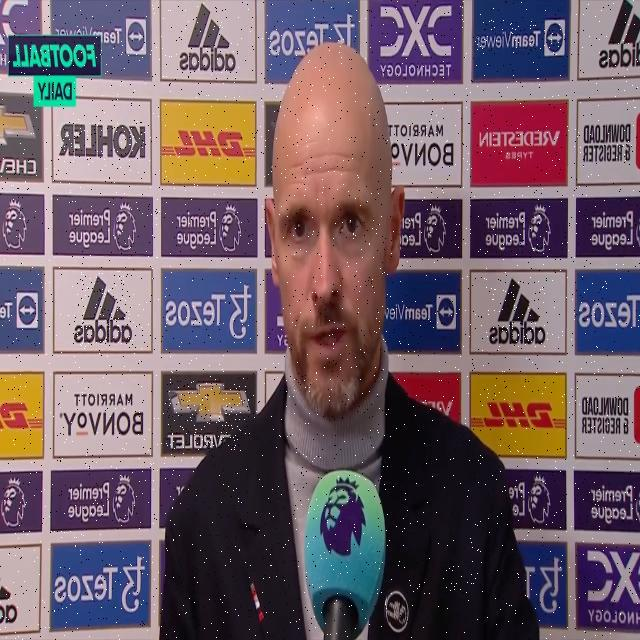Adidas: (72, 273, 134, 346), (180, 0, 238, 76), (486, 278, 548, 347)
Chevrolet: (165, 378, 250, 450)
Kohler: (58, 120, 147, 162)
TeamViewer: (475, 21, 565, 55)
